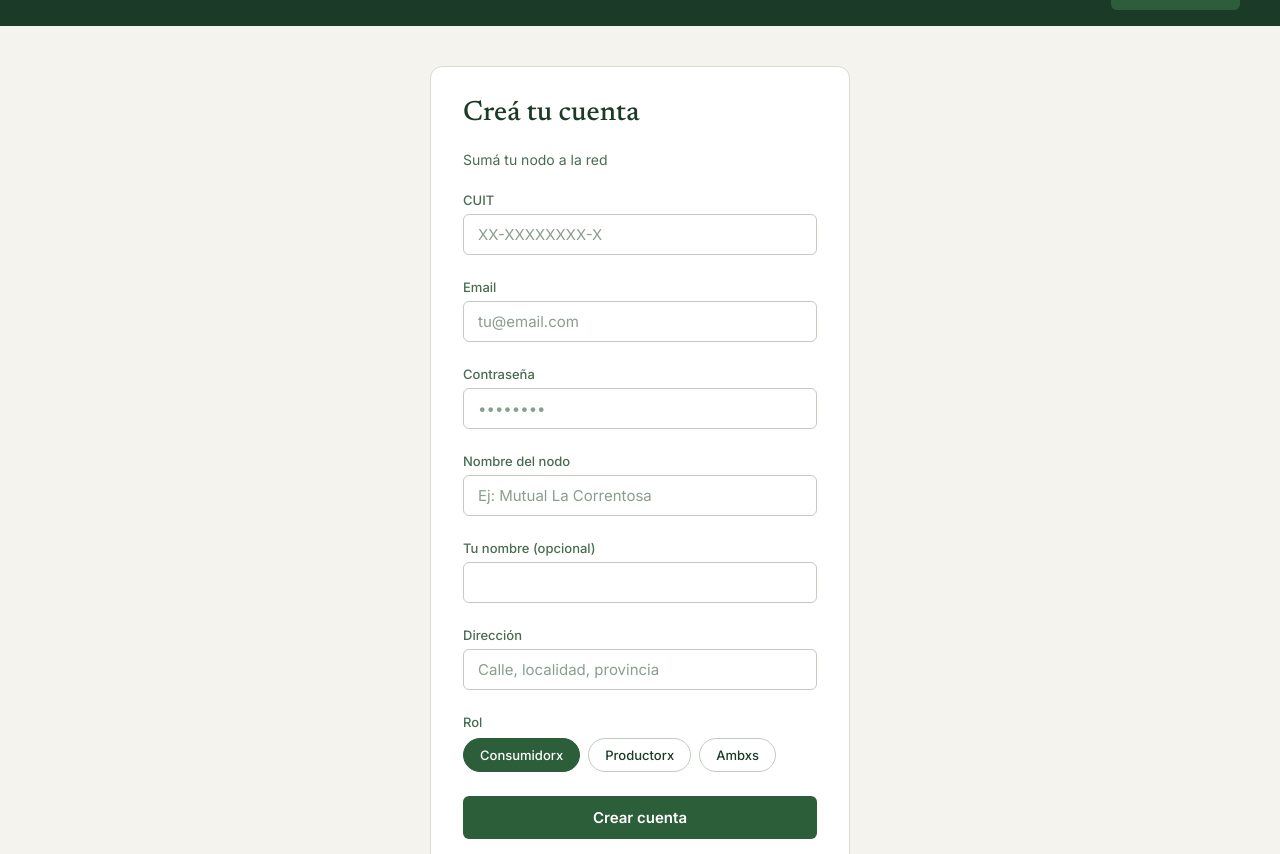
Signup › reveals latitude+longitude when backend reports geocoding failure
The width and height of the screenshot is (1280, 854).
Type "20-12345678-6" into the field labelled "CUIT".
click(640, 234); type("20-12345678-6")  # box x1=463 y1=214 x2=817 y2=255
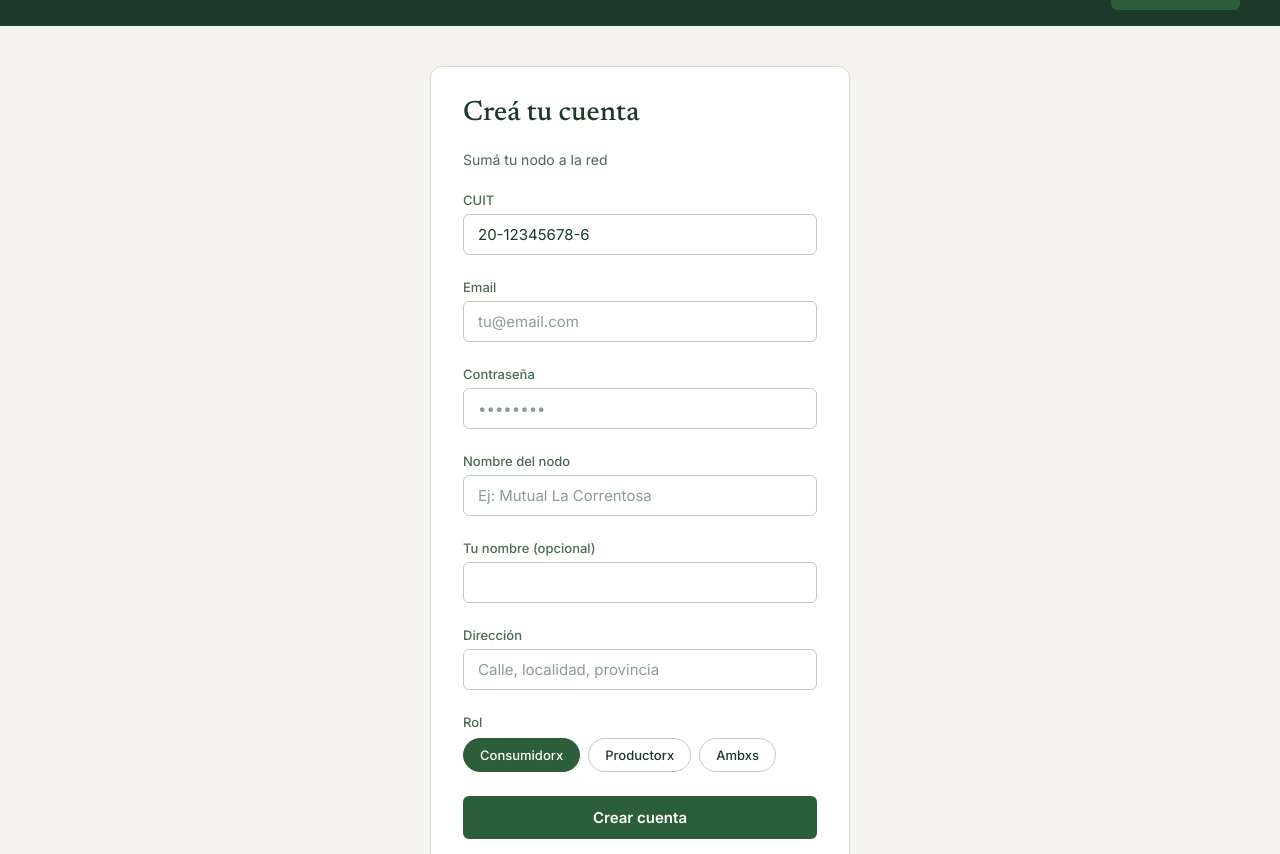
Type "demo@example.com" into the field labelled "Email".
click(640, 322); type("demo@example.com")  # box x1=463 y1=301 x2=817 y2=342
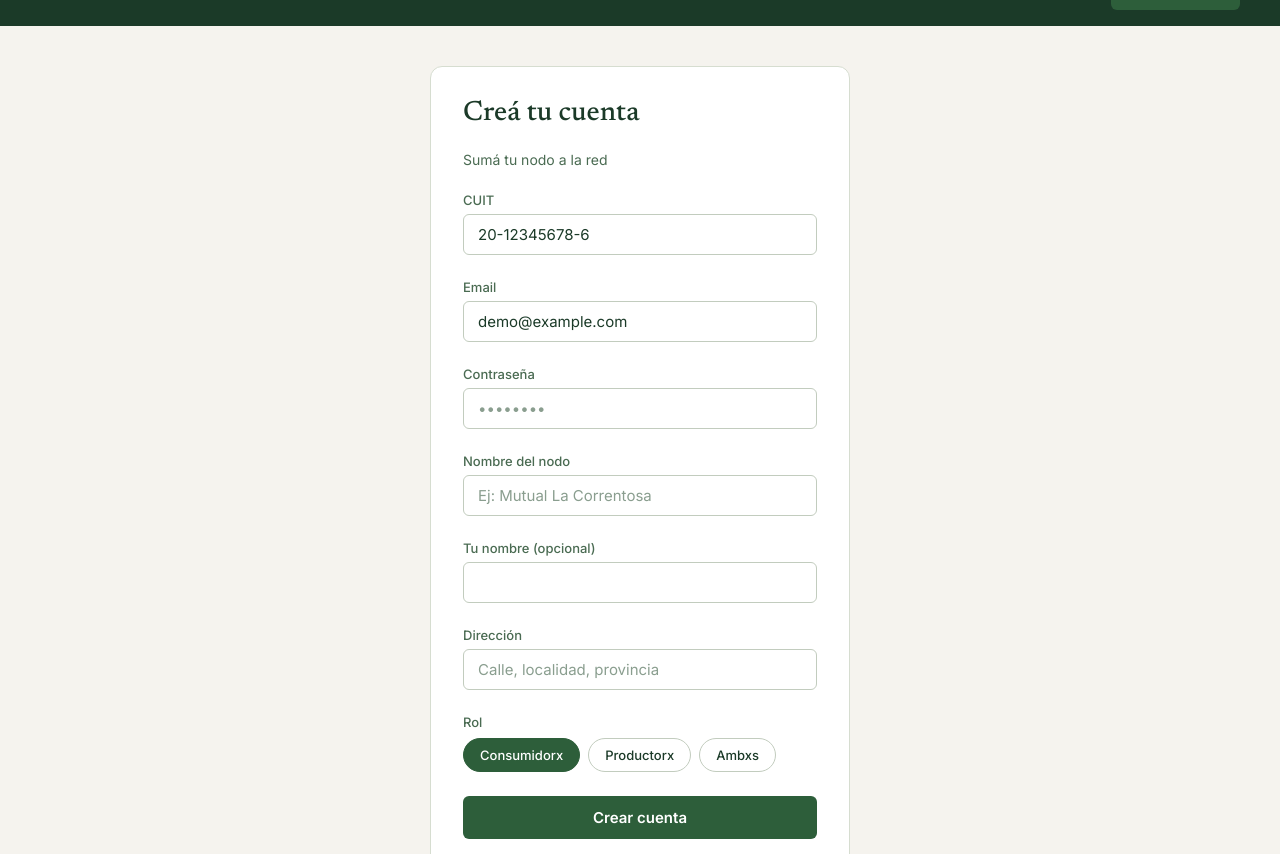
Type "secret" into the password field labelled "Contraseña".
click(640, 408); type("secret")  # box x1=463 y1=388 x2=817 y2=429
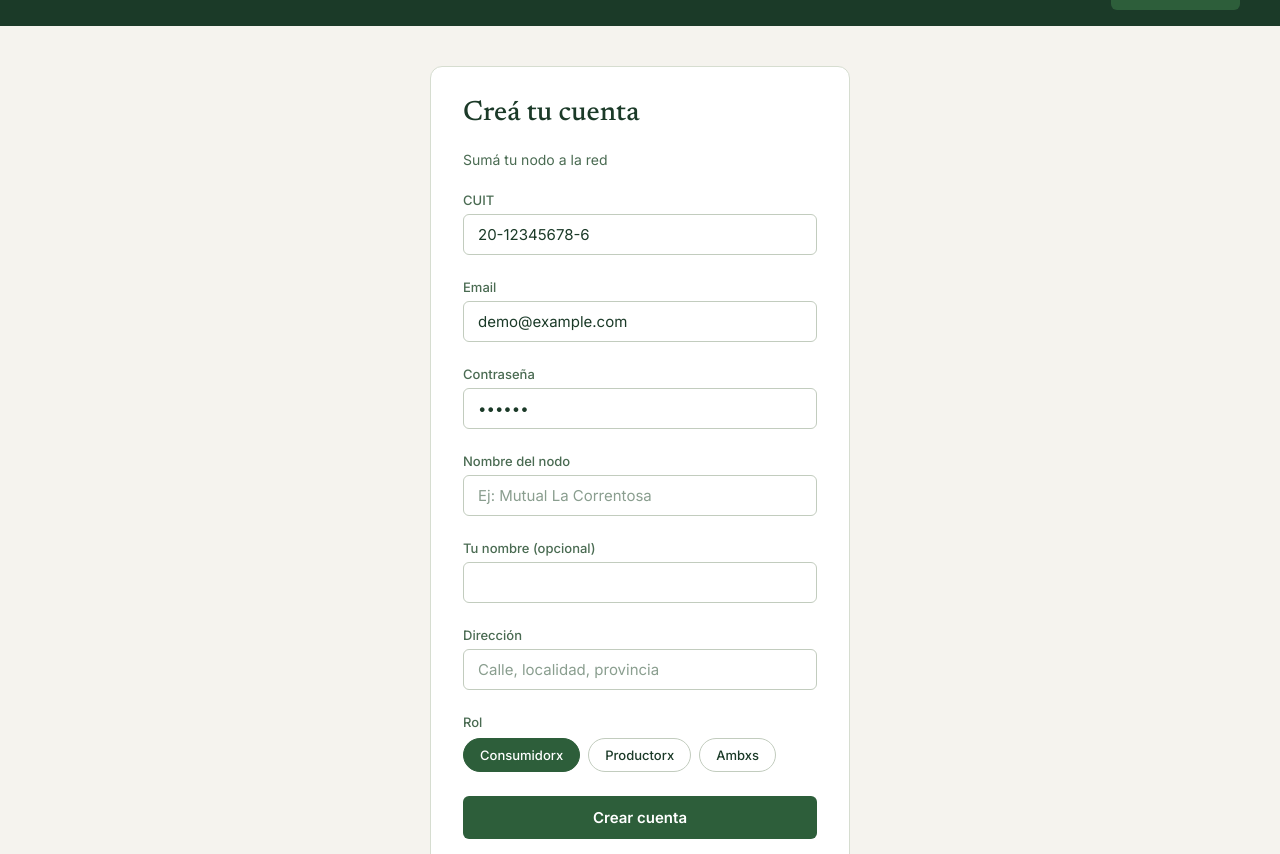
Type "Mutual Demo" into the field labelled "Nombre del nodo".
click(640, 496); type("Mutual Demo")  # box x1=463 y1=475 x2=817 y2=516
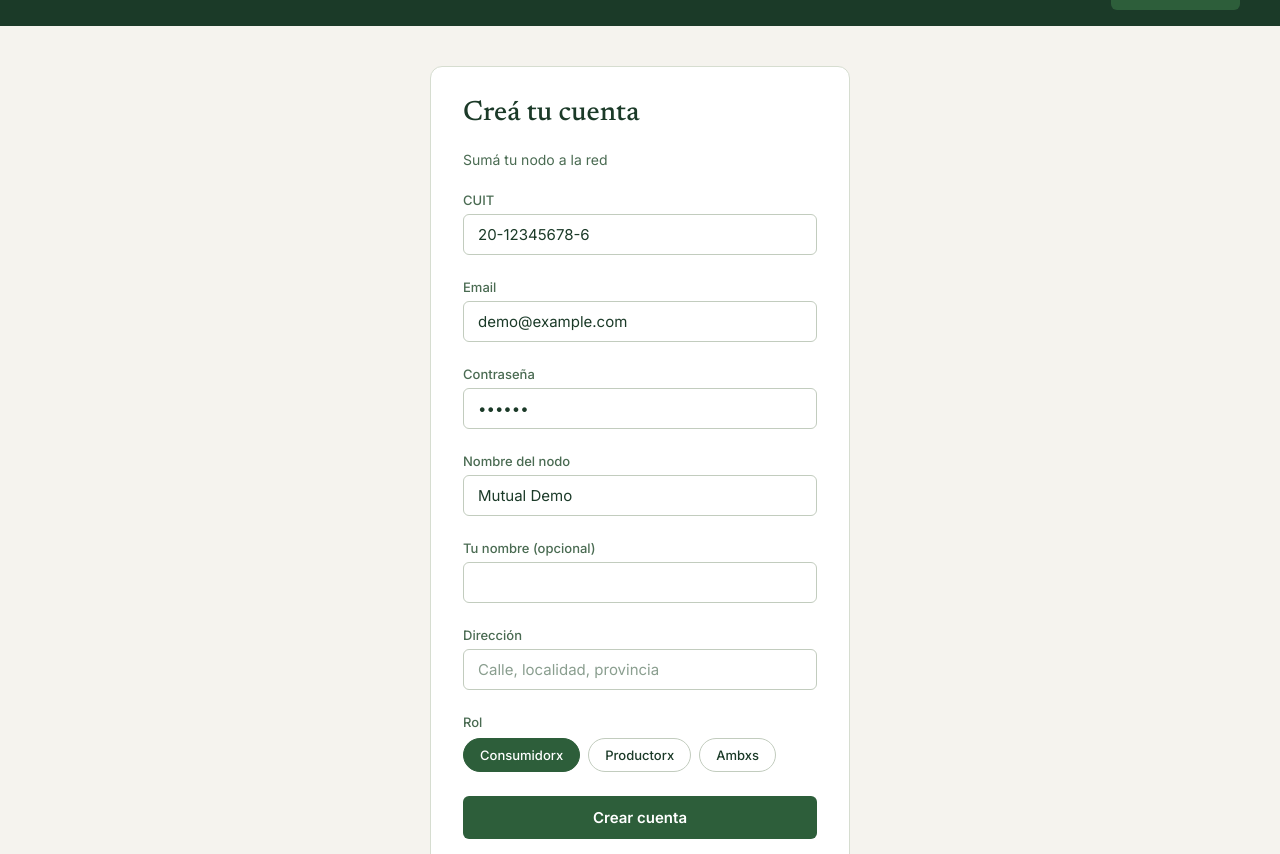
Type "Calle Falsa 123" into the field labelled "Dirección".
click(640, 670); type("Calle Falsa 123")  # box x1=463 y1=649 x2=817 y2=690
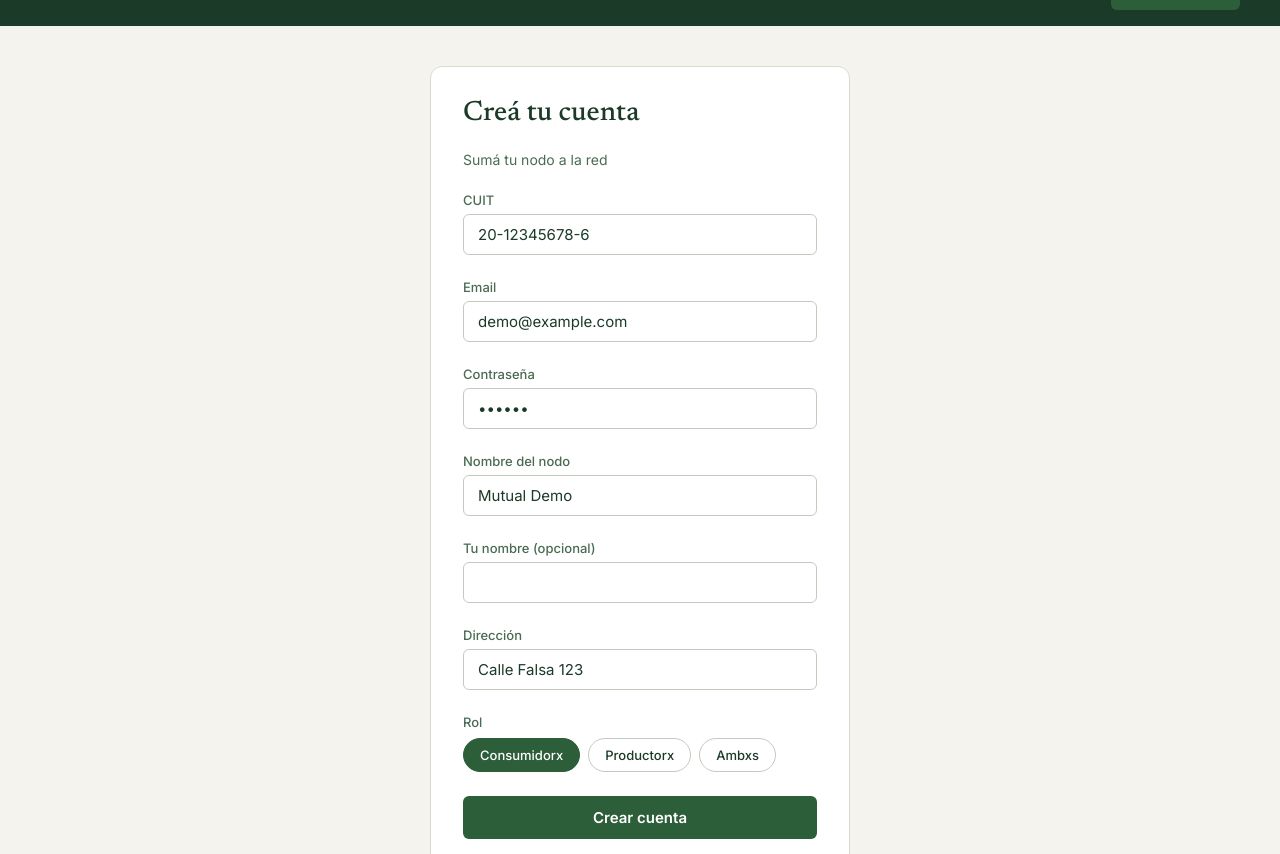
Click the button "Crear cuenta".
click(640, 818)  # box x1=463 y1=796 x2=817 y2=839
(page scrolled)
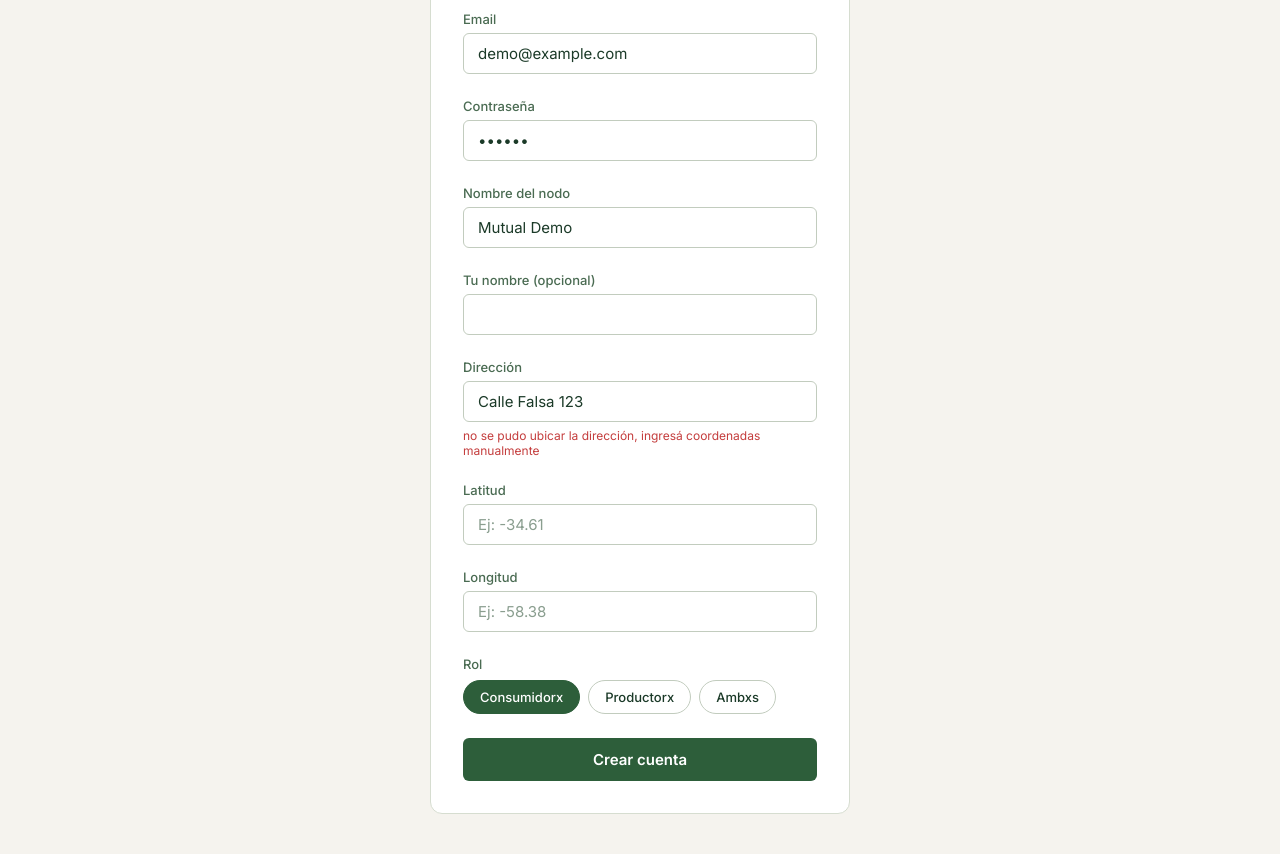
Check: the field labelled "Latitud" is shown, box x1=463 y1=504 x2=817 y2=545
Check: the field labelled "Longitud" is shown, box x1=463 y1=591 x2=817 y2=632
